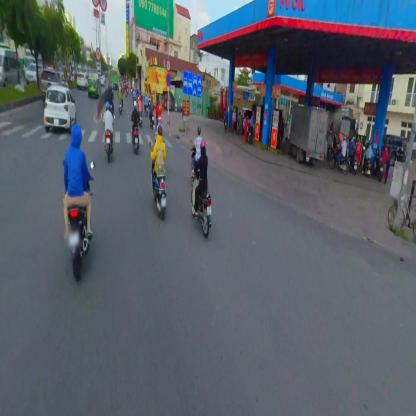Cam con lai: (91, 0, 98, 7)
Cam dung va do: (166, 72, 171, 85)
Gioi han toc do: (95, 46, 101, 60), (100, 0, 107, 12), (166, 57, 170, 71)
